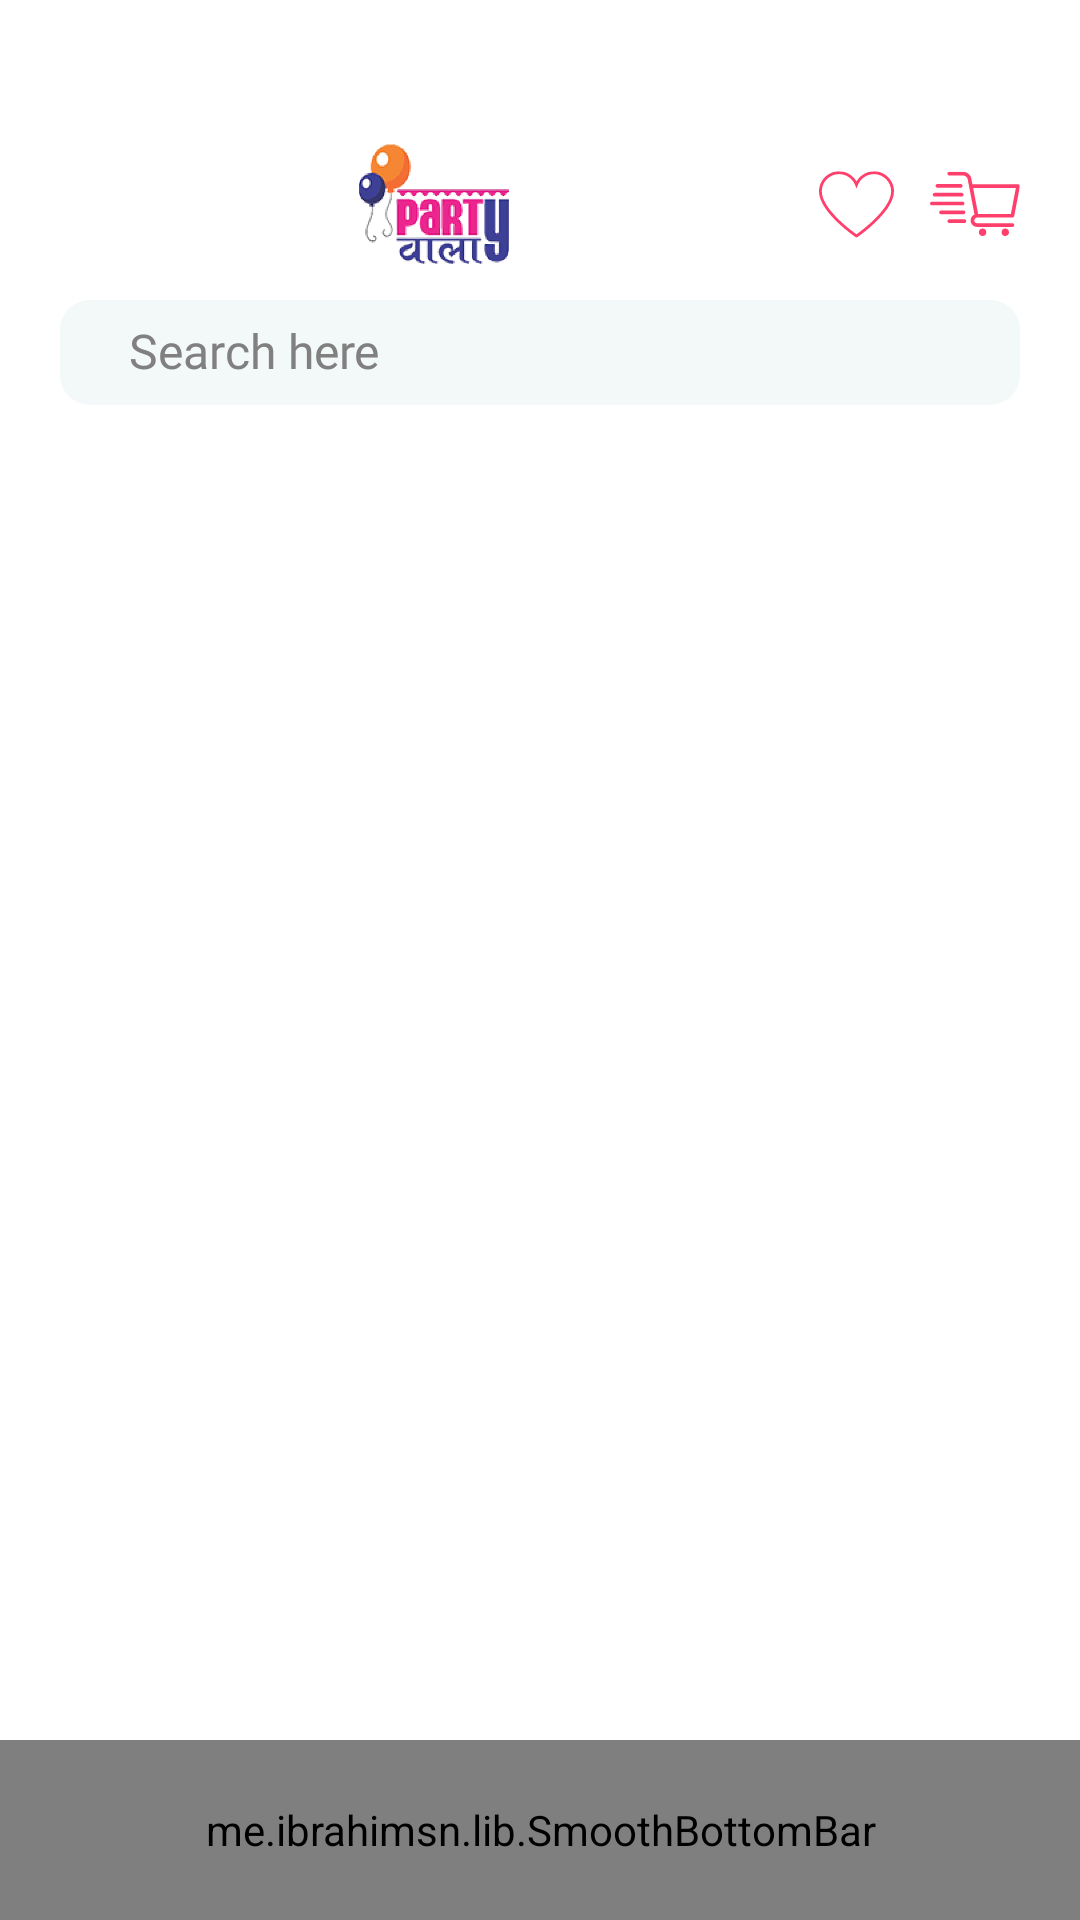

Screen size 1080w x 1920h. Icon name, then its box in pixels as box(x1, y1, x2, y2):
cart: box(930, 172, 1020, 236)
heart: box(819, 171, 894, 238)
